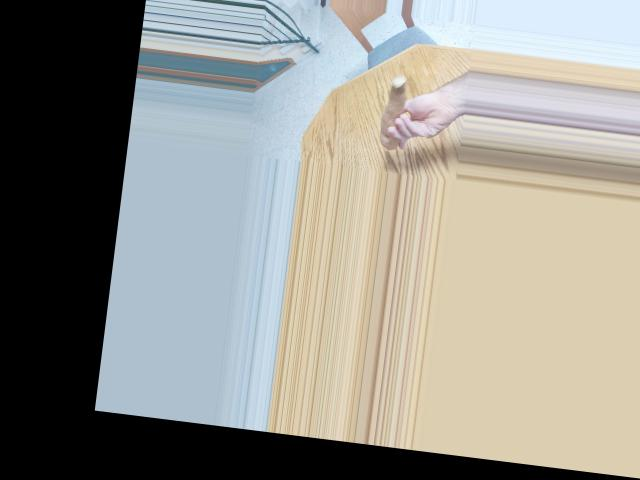sweet_potato: (377, 73, 415, 148)
